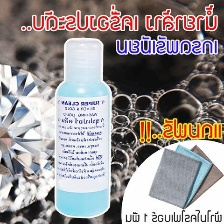cleaning_solution: (52, 35, 112, 219)
